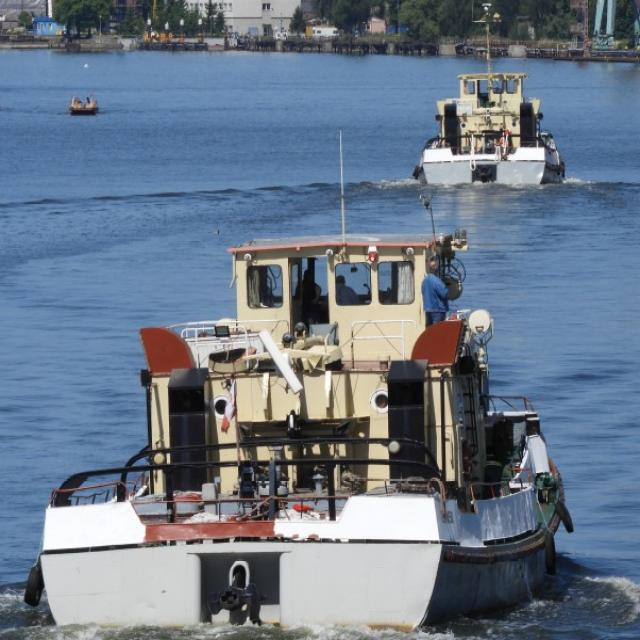tugboat: (18, 228, 580, 640), (410, 67, 570, 197)
